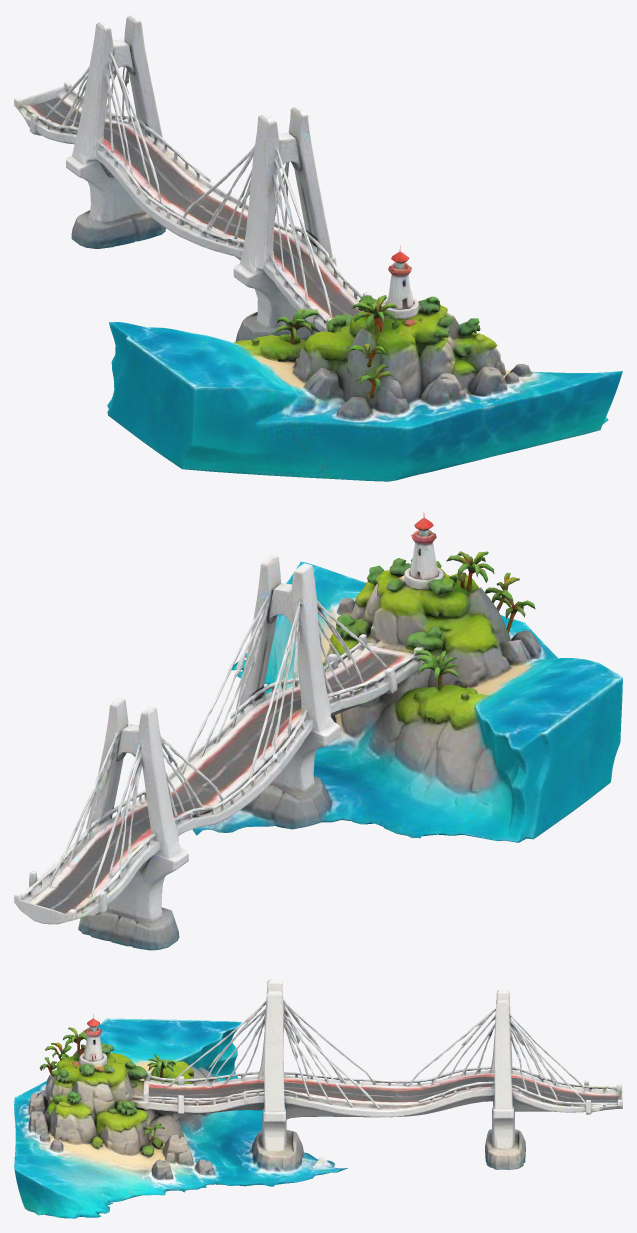
File: sea-highway.glb
3 views of the same model, one above another, from view 1: azimuth 30°, elevation 25°; view 2: azimuth 150°, elevation 25°; view 3: azimuth 270°, elevation 25° (orthographic). The views are drawn at different scales.
Parts seen in each view (by area): view 1: model; view 2: model; view 3: model.
Part boxes in pixels (x1,y1,x2,y2): model: (14,14,622,481); model: (14,512,622,950); model: (14,979,622,1218).
Bounding box in the file's own units: 19.16 × 11.19 × 36.
Materials: 1 (1 with a texture image).
